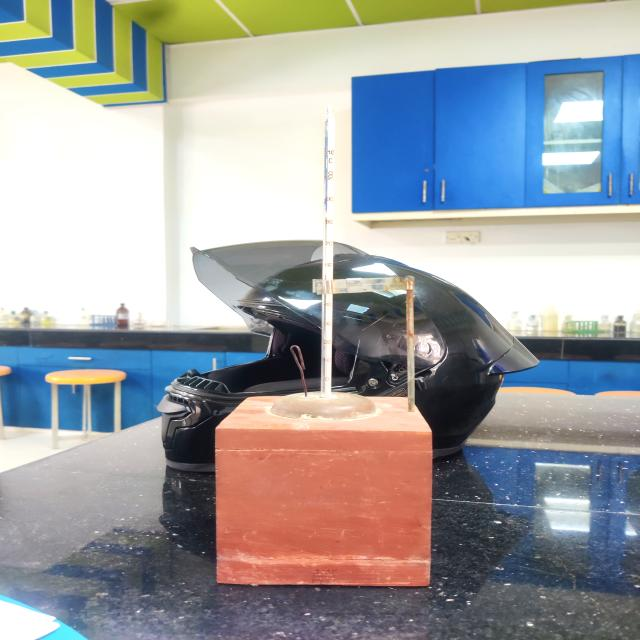Calorimeter: (194, 86, 462, 616)
